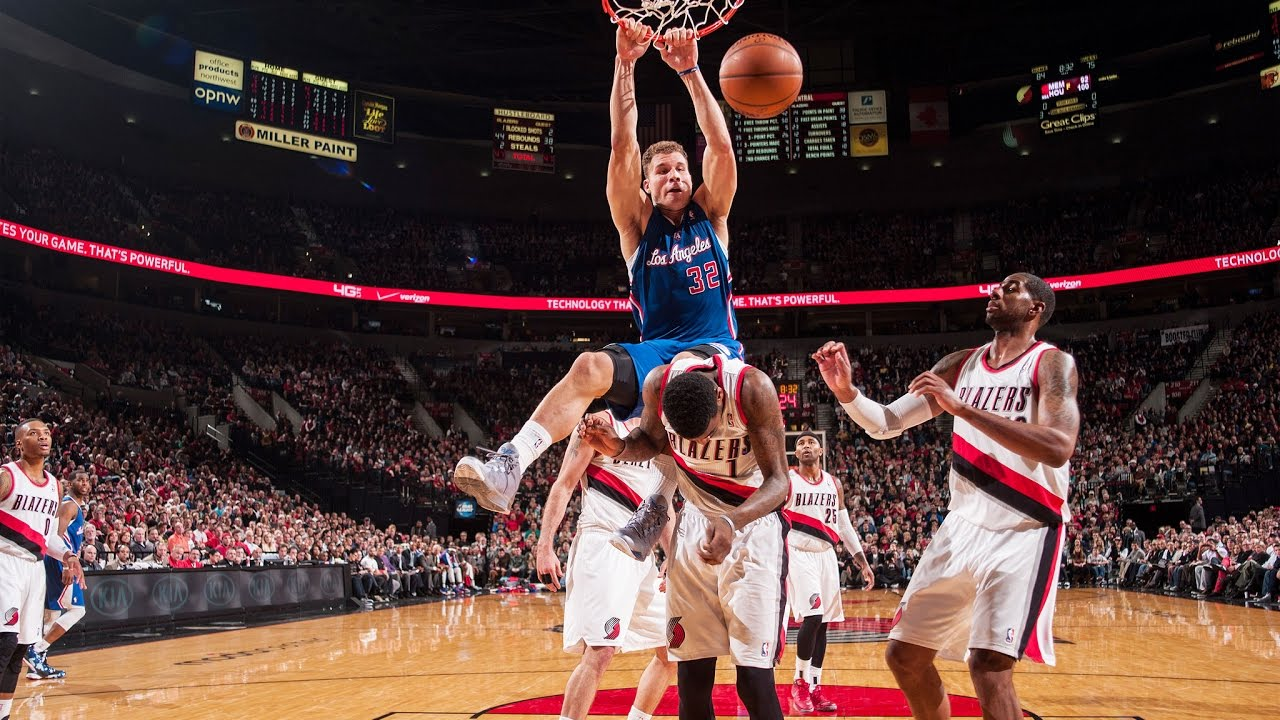defense: (834, 253, 1120, 720)
shoot: (485, 8, 810, 500)
